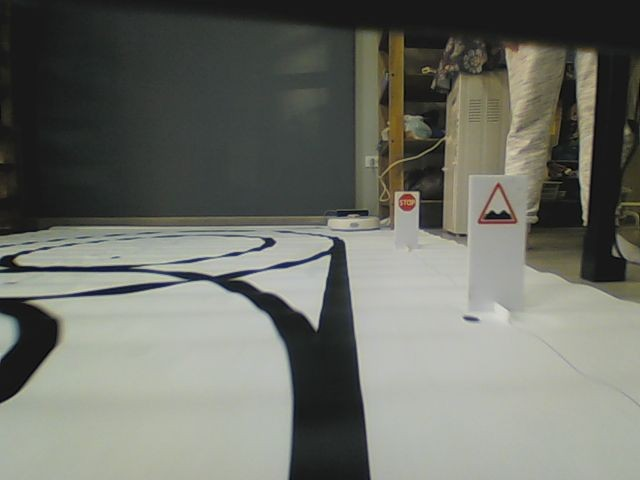Nerov: (477, 182, 519, 225)
Stop: (398, 192, 416, 212)
